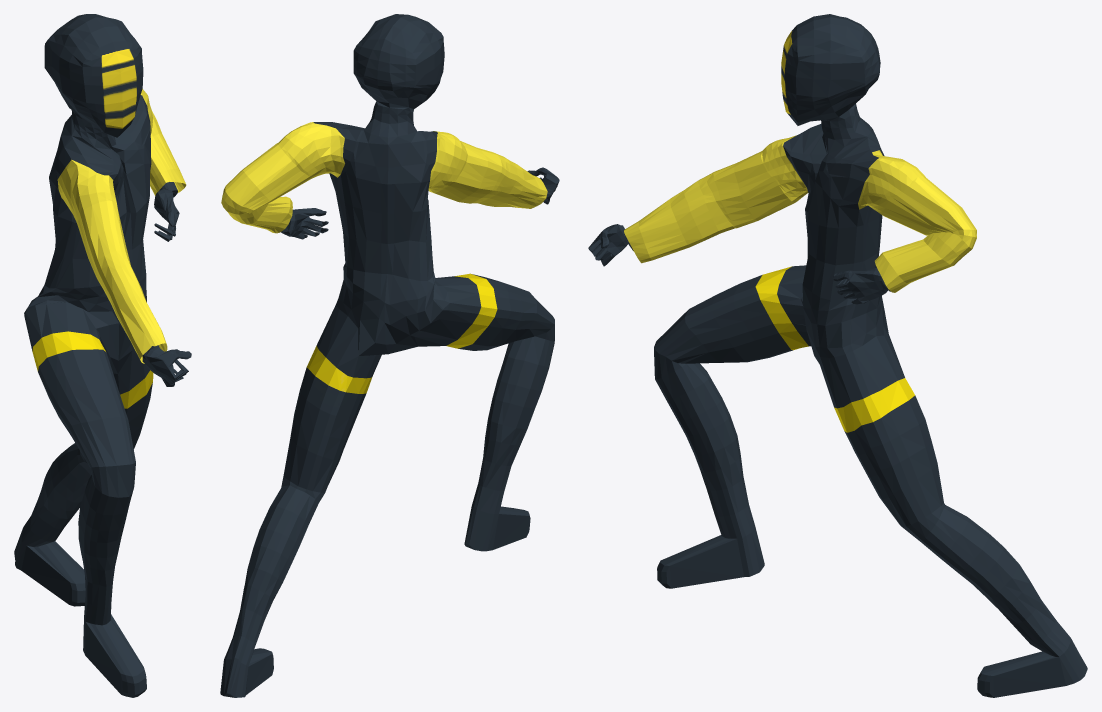
The model's file is Sentry_WR_000006.obj.
3 renders of one model, left to right at view 1: azimuth 30°, elevation 25°; view 2: azimuth 150°, elevation 25°; view 3: azimuth 270°, elevation 25°, orthographic. The views are drawn at different scales.
Visible parts, largest first — view 1: Cube; view 2: Cube; view 3: Cube.
Boxes of the visible parts, bbox=[...] form: Cube: bbox=[14, 14, 191, 697]; Cube: bbox=[220, 14, 559, 697]; Cube: bbox=[588, 14, 1087, 697].
Bounding box in the file's own units: 1.2 × 3.62 × 2.55.
